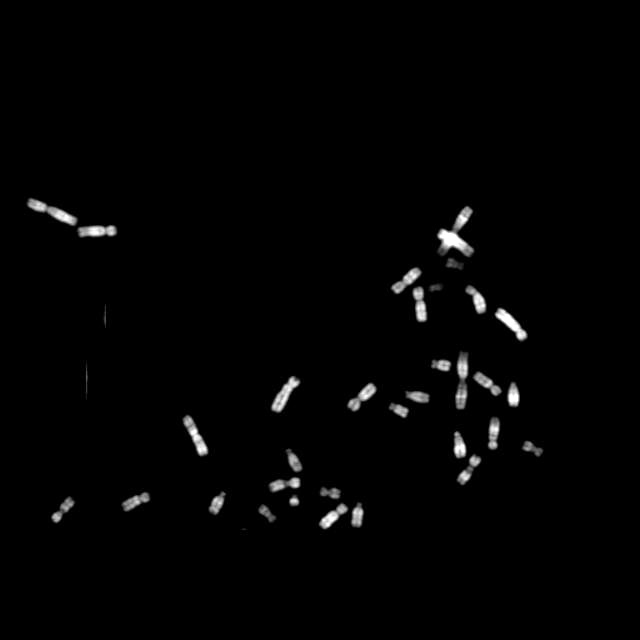chromosome: (439, 206, 473, 256), (28, 198, 76, 226), (272, 375, 300, 413), (182, 416, 208, 456), (438, 228, 474, 256), (496, 308, 526, 340), (348, 382, 376, 412), (456, 454, 482, 486), (392, 268, 421, 294), (320, 503, 348, 529), (456, 351, 468, 409), (474, 372, 501, 396), (466, 286, 486, 314), (122, 492, 150, 512), (52, 498, 74, 522), (78, 226, 116, 238), (414, 286, 426, 322), (488, 417, 500, 449), (286, 448, 302, 472), (269, 478, 301, 490), (210, 492, 226, 514), (454, 431, 466, 459), (523, 440, 543, 456), (389, 402, 408, 418), (508, 382, 520, 406), (405, 391, 429, 403), (260, 505, 276, 523), (352, 501, 362, 527), (446, 258, 464, 270), (320, 488, 340, 498), (432, 360, 450, 370), (431, 284, 443, 292), (290, 496, 298, 506)
